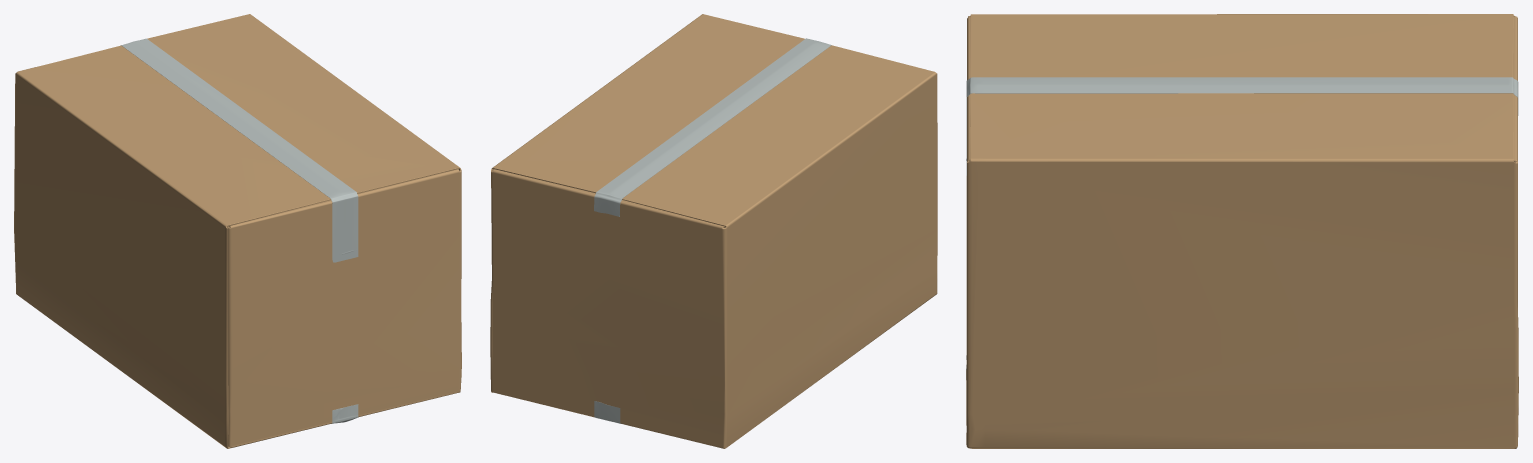
Rendered from box_printer_white_b01.glb.
3 views of the same model, side by side, from view 1: azimuth 30°, elevation 25°; view 2: azimuth 150°, elevation 25°; view 3: azimuth 270°, elevation 25° (orthographic). The views are drawn at different scales.
Size of the model in its own units: 0.2767 by 0.256 by 0.4345.
